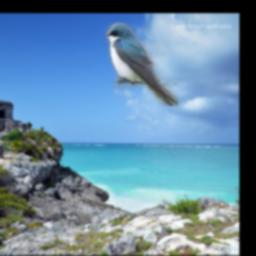Swallow: (106, 23, 178, 106)
